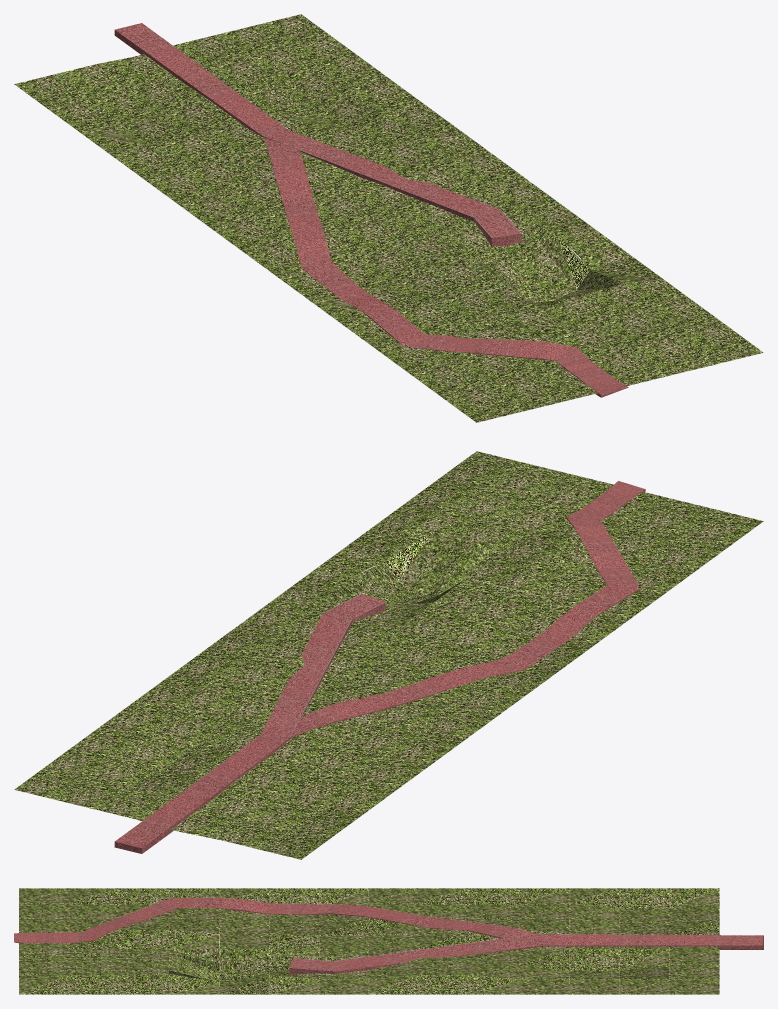
File: planepark.fbx
3 renders of one model, top to bottom at view 1: azimuth 30°, elevation 25°; view 2: azimuth 150°, elevation 25°; view 3: azimuth 270°, elevation 25°, orthographic. The views are drawn at different scales.
Parts seen in each view (by area): view 1: parkplane, parkplane_1, mesh_2, mesh, mesh_3, mesh_4, mesh_5, mesh_6, mesh_1; view 2: parkplane, parkplane_1, mesh_2, mesh, mesh_3, mesh_4, mesh_5, mesh_6, mesh_1; view 3: parkplane, parkplane_1, mesh_2, mesh, mesh_3, mesh_4, mesh_5, mesh_6, mesh_1.
Part boxes in pixels (bbox=[...]): parkplane: bbox=[246, 183, 763, 422]; parkplane_1: bbox=[14, 14, 532, 253]; mesh_2: bbox=[114, 23, 286, 136]; mesh: bbox=[262, 129, 498, 221]; mesh_3: bbox=[263, 137, 331, 267]; mesh_4: bbox=[302, 259, 427, 345]; mesh_5: bbox=[407, 332, 573, 360]; mesh_6: bbox=[554, 346, 628, 397]; mesh_1: bbox=[471, 209, 521, 246]; parkplane: bbox=[246, 451, 763, 690]; parkplane_1: bbox=[14, 620, 532, 859]; mesh_2: bbox=[114, 735, 289, 853]; mesh: bbox=[260, 614, 352, 738]; mesh_3: bbox=[290, 660, 523, 738]; mesh_4: bbox=[496, 583, 639, 669]; mesh_5: bbox=[566, 517, 638, 589]; mesh_6: bbox=[566, 481, 645, 521]; mesh_1: bbox=[322, 593, 385, 622]; parkplane: bbox=[19, 888, 369, 994]; parkplane_1: bbox=[368, 888, 719, 994]; mesh_2: bbox=[540, 934, 763, 949]; mesh: bbox=[333, 933, 545, 974]; mesh_3: bbox=[326, 904, 537, 938]; mesh_4: bbox=[167, 897, 333, 915]; mesh_5: bbox=[81, 900, 183, 941]; mesh_6: bbox=[14, 931, 93, 943]; mesh_1: bbox=[289, 958, 338, 974].
Size of the model in its own units: 525 by 59.38 by 1567.
Materials: 2 (2 with a texture image).
